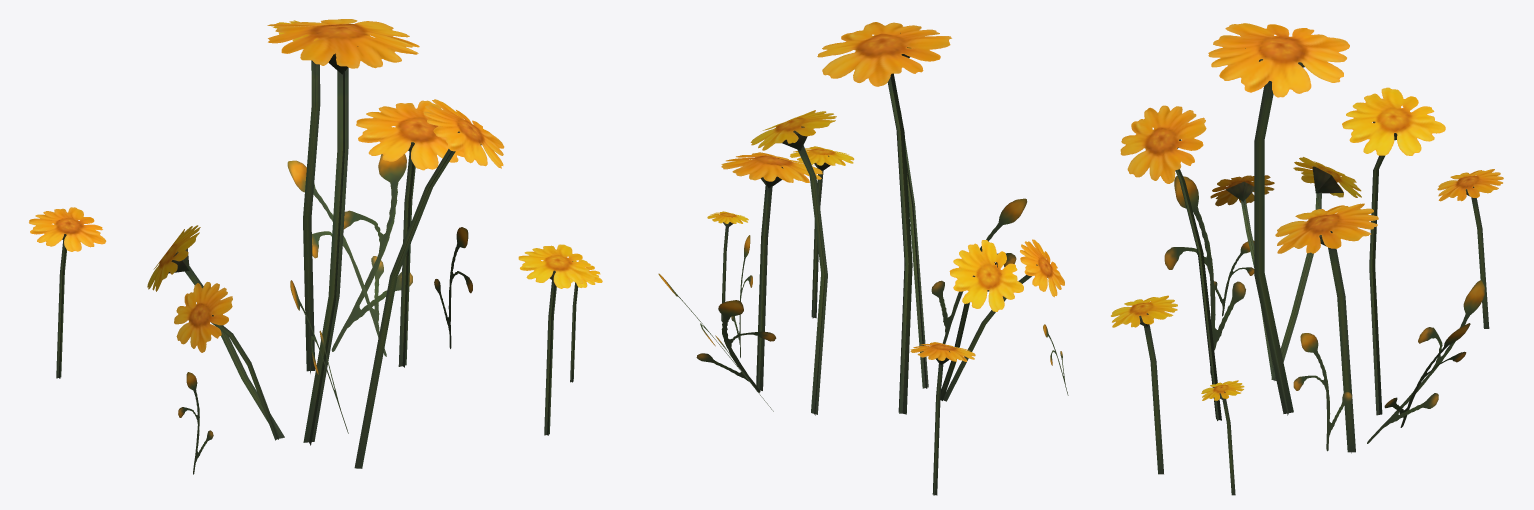
File: scene_lawennushandao_zhiwu09.FBX
The picture shows the model from 3 angles, left to right: view 1: azimuth 30°, elevation 25°; view 2: azimuth 150°, elevation 25°; view 3: azimuth 270°, elevation 25°; orthographic projection. The views are drawn at different scales.
Parts seen in each view (by area): view 1: scene_lawennushandao_zhiwu09; view 2: scene_lawennushandao_zhiwu09; view 3: scene_lawennushandao_zhiwu09.
Boxes of the visible parts, left/top/right/bottom form: scene_lawennushandao_zhiwu09: left=29, top=19, right=602, bottom=474; scene_lawennushandao_zhiwu09: left=658, top=22, right=1068, bottom=495; scene_lawennushandao_zhiwu09: left=1111, top=23, right=1503, bottom=495.
Size of the model in its own units: 121 by 110 by 108.
